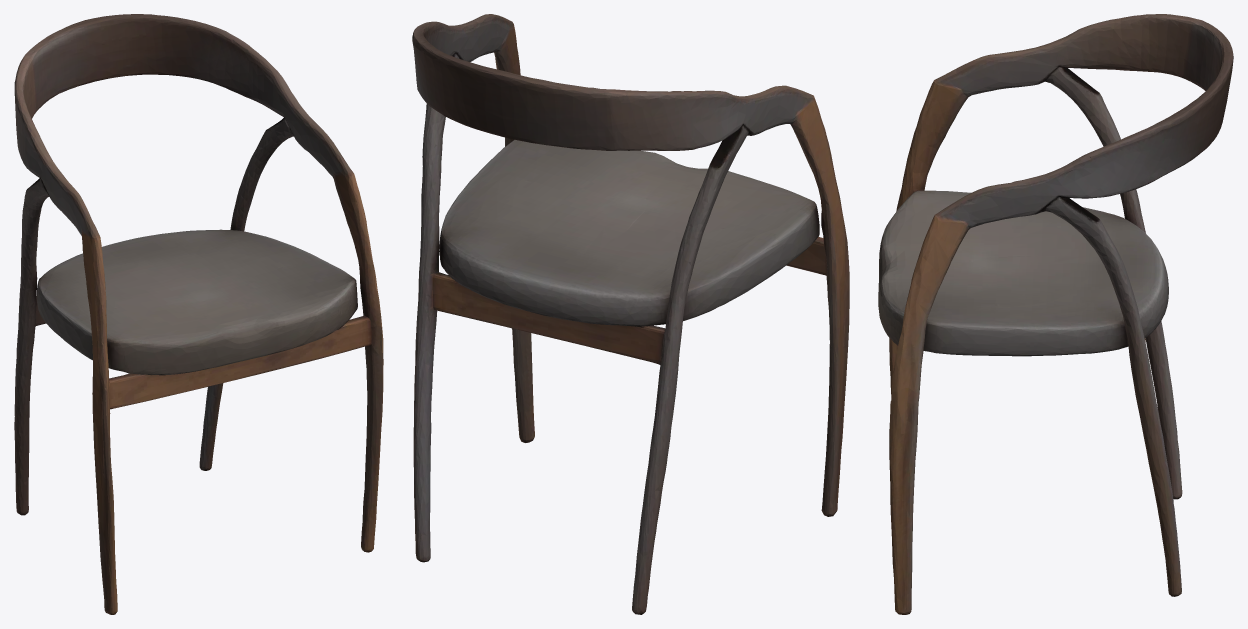
File: 82073dca-b7db-44e2-acca-077d6af6bd5f.glb
The picture shows the model from 3 angles, left to right: view 1: azimuth 30°, elevation 25°; view 2: azimuth 150°, elevation 25°; view 3: azimuth 270°, elevation 25°; orthographic projection. The views are drawn at different scales.
Parts seen in each view (by area): view 1: world; view 2: world; view 3: world.
Boxes of the visible parts, x1,y1,x2,y2 form: world: (14,14,383,614); world: (412,14,849,614); world: (878,14,1233,614).
Size of the model in its own units: 0.6497 by 0.9976 by 0.6506.
1 material, 1 textured.
